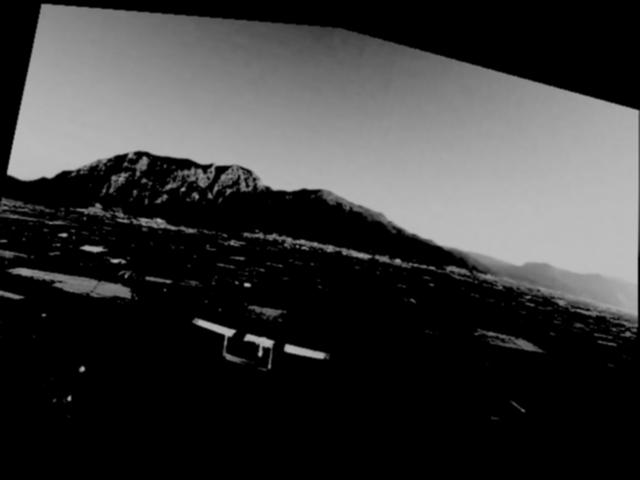hedef: (182, 296, 338, 388)
